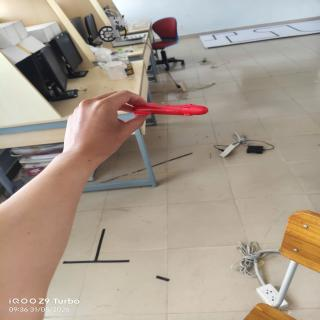Rocket: (146, 99, 208, 118)
